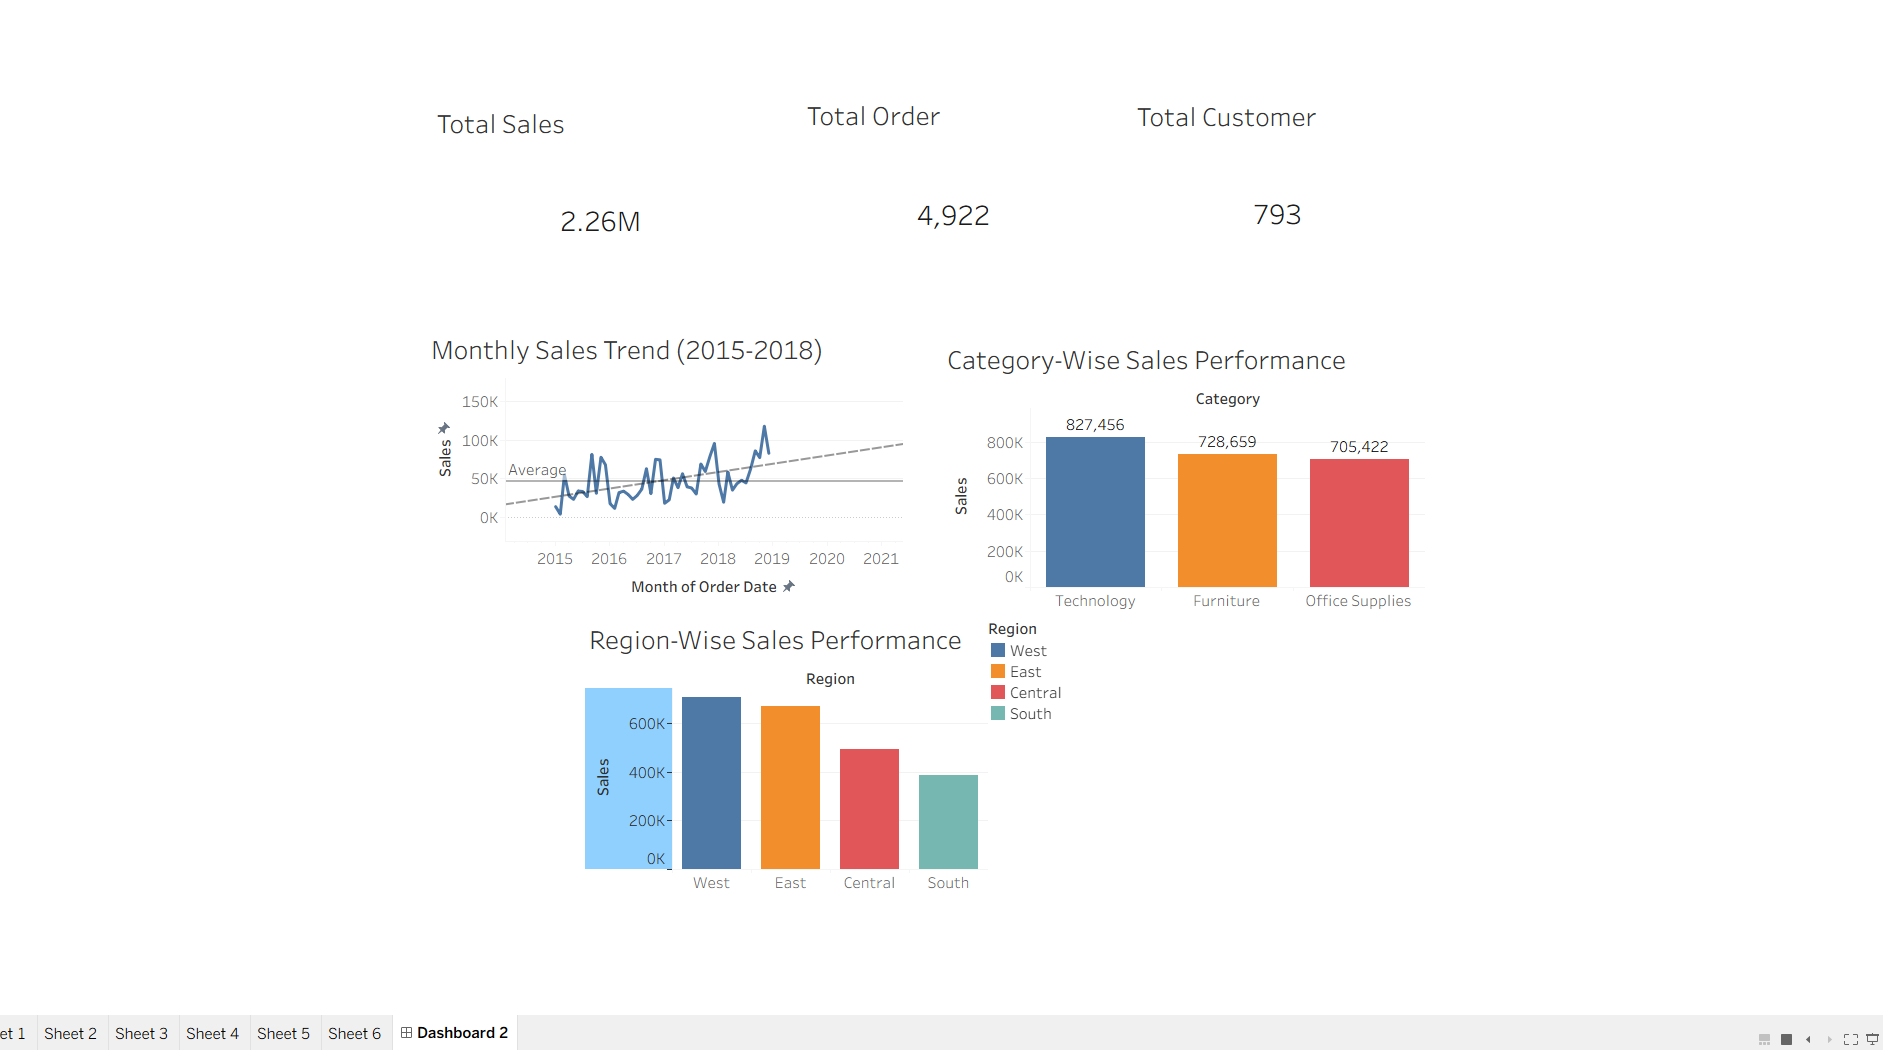

This screenshot's page, from the dashboard's own definition file:
{"tool":"tableau","page":{"name":"Dashboard 2","canvas":[1000,800],"ordinal":0},"visuals":[{"type":"worksheet","title":"Sheet 5","mark":"Automatic","box":[377,1,301,192]},{"type":"worksheet","title":"Sheet 6","mark":"Automatic","box":[707,2,290,187]},{"type":"worksheet","title":"Sheet 4","mark":"Automatic","box":[7,9,337,188]},{"type":"worksheet","title":"Sheet 1","mark":"Automatic","rows":["Sales"],"cols":["Order Date"],"box":[1,235,476,276]},{"type":"worksheet","title":"Sheet 2","mark":"Automatic","rows":["Sales"],"cols":["Category"],"box":[517,245,482,289]},{"type":"worksheet","title":"Sheet 3","mark":"Automatic","rows":["Sales"],"cols":["Region"],"box":[159,525,403,276]},{"type":"legend","title":"Sheet 3","param":"[federated.03pygdy0gmbhy512jh9k91ffjxep].[none:Region:nk]","box":[562,525,140,106]}]}

Visuals, with their boxes on the page's 1000x800 design canvas (x1, y1, x2, y2). These are canvas units, not pixel positions in the 1883x1050 screenshot, which may show the page scaled, cropped or inside an application window:
"Sheet 5" worksheet: 377/1/678/193
"Sheet 6" worksheet: 707/2/997/189
"Sheet 4" worksheet: 7/9/344/197
"Sheet 1" worksheet: 1/235/477/511
"Sheet 2" worksheet: 517/245/999/534
"Sheet 3" worksheet: 159/525/562/801
"Sheet 3" legend: 562/525/702/631
